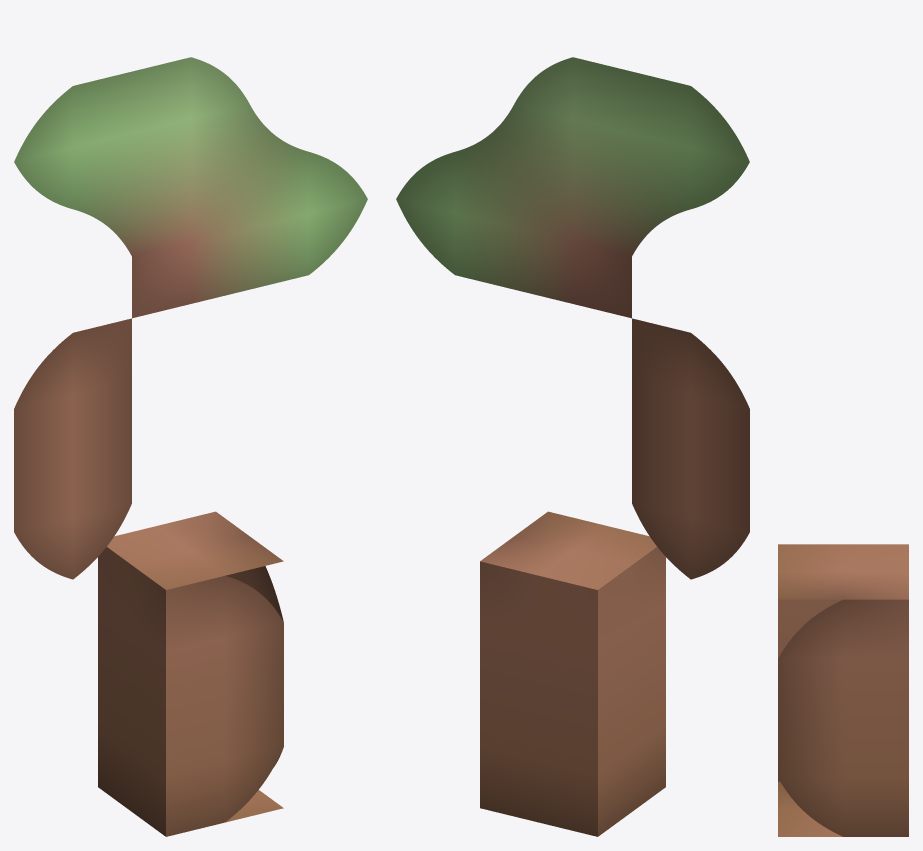
Rendered from PalmTreeStage1.fbx.
3 renders of one model, left to right at view 1: azimuth 30°, elevation 25°; view 2: azimuth 150°, elevation 25°; view 3: azimuth 270°, elevation 25°, orthographic. The views are drawn at different scales.
Visible parts, largest first — view 1: top, stem; view 2: top, stem; view 3: stem.
Part boxes in pixels (bbox=[...]): top: bbox=[14, 57, 367, 579]; stem: bbox=[98, 511, 283, 836]; top: bbox=[396, 57, 749, 579]; stem: bbox=[480, 511, 665, 836]; stem: bbox=[778, 544, 908, 836].
Bounding box in the file's own units: 9.38 × 18.75 × 3.12.
1 material, 1 textured.
